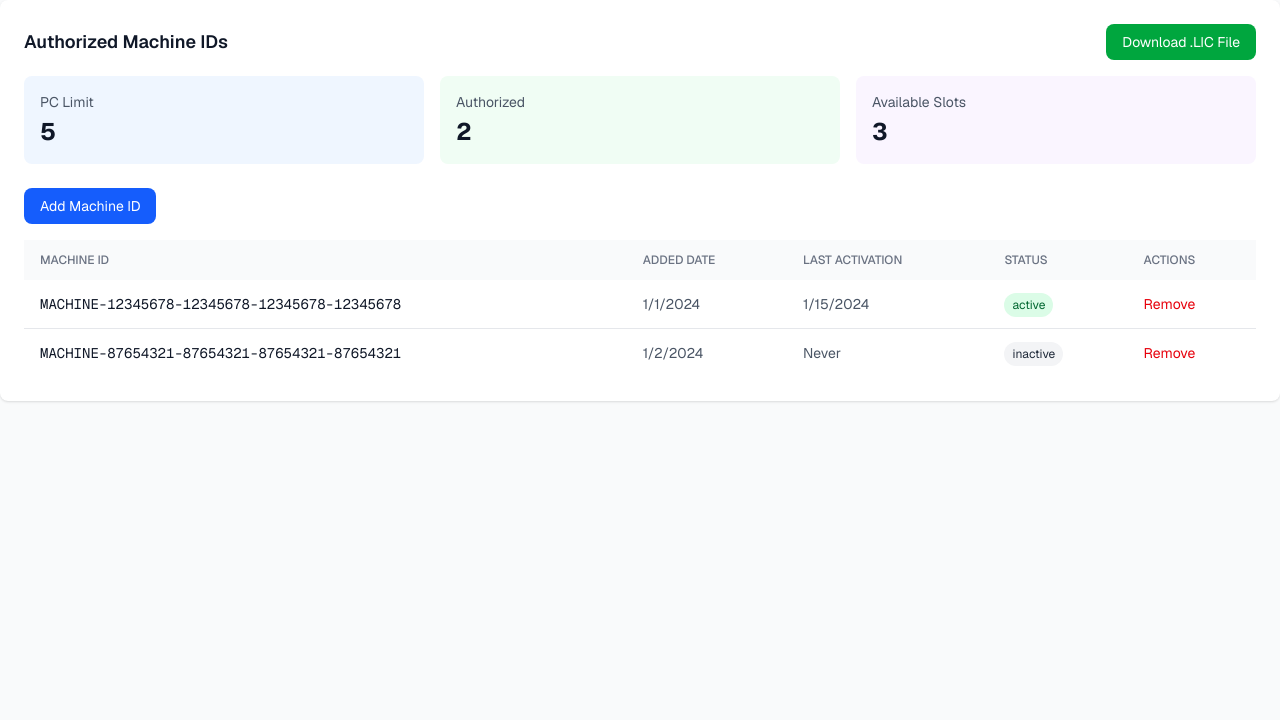
Test case: MachineIdManagementPanel › validates Machine ID format when adding
Click the button "Add Machine ID".
click(90, 206)  # box [24,188,156,224]
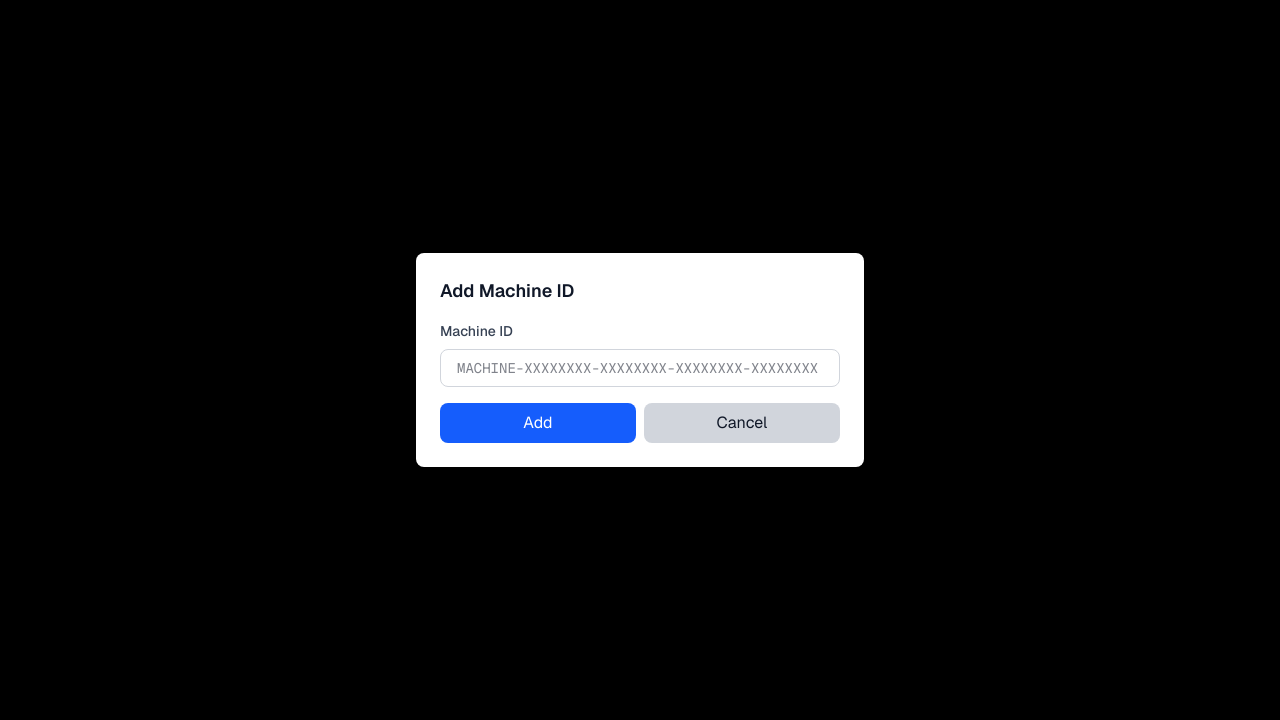
Type "INVALID-ID" into the field with placeholder "MACHINE-XXXXXXXX-XXXXXXXX-XXXXXXXX-XXXXXXXX".
click(640, 368); type("INVALID-ID")  # box [440,349,840,387]
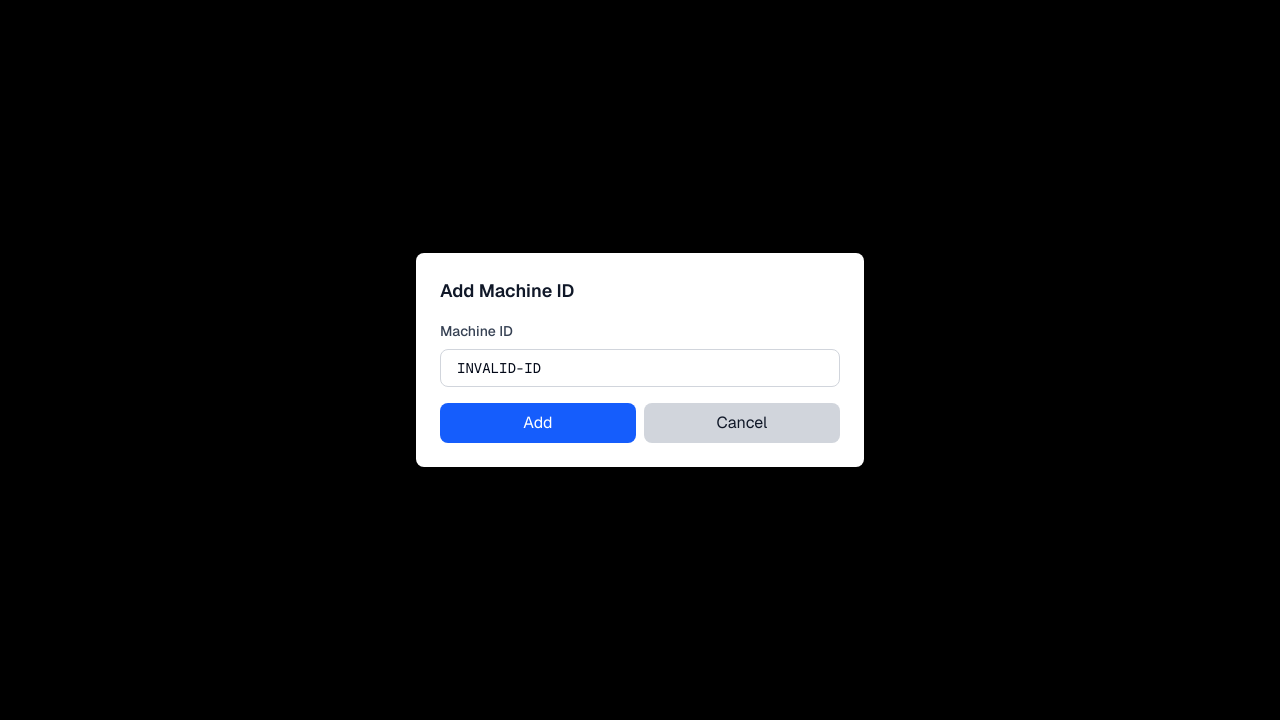
Click the button "Add".
click(538, 423)  # box [440,403,636,443]
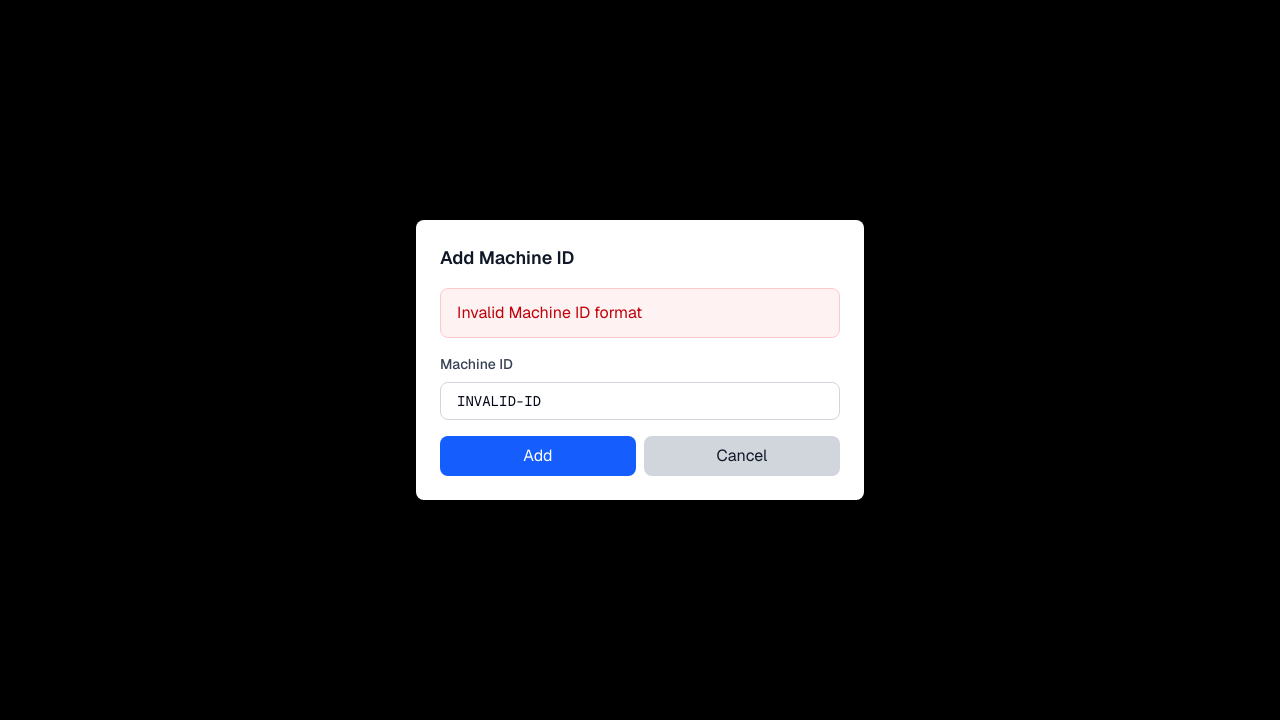
Result: the text "Invalid Machine ID format" is shown at [440,288,840,338]
